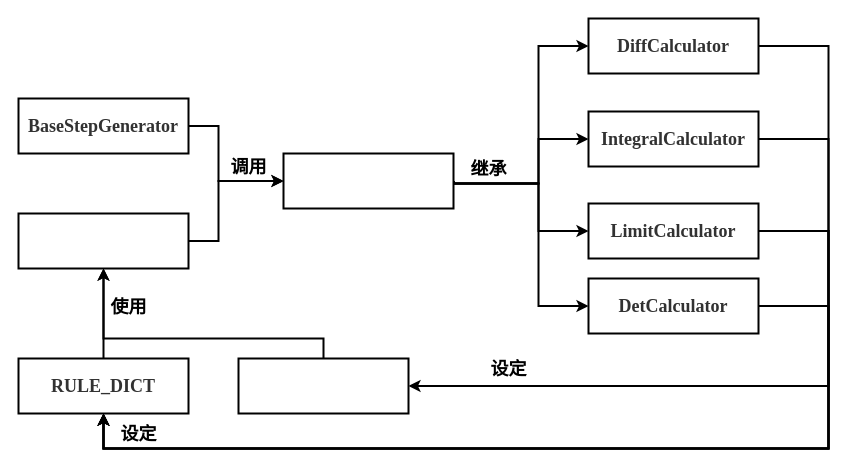
Image size: 854x474. Some labels were removed from this diagram. Here are the shapes that lost their labels. From the top down, the centre of each, then its label:
At point 368,180: "BaseCalculator".
At point 103,240: "RuleRegistry".
At point 323,385: "MATCHER_LIST".
